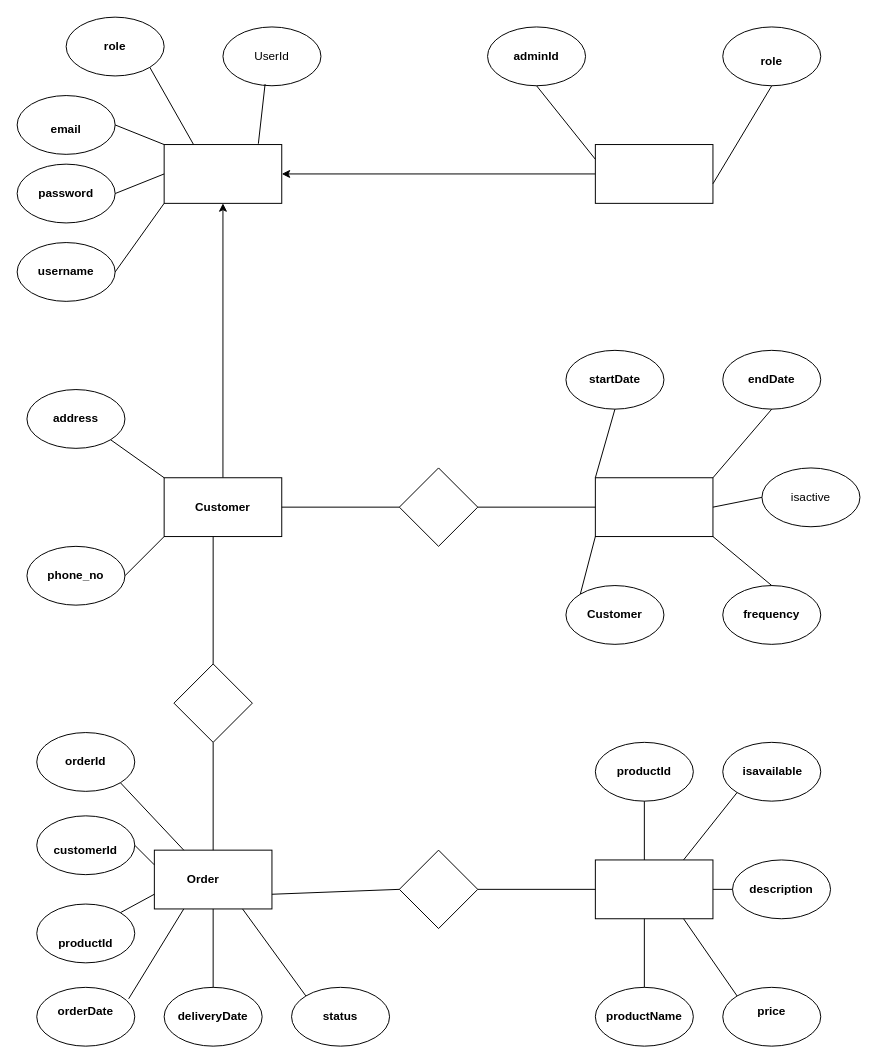
The diagram is 877 pixels wide and 1063 high, and some of its shapes have lost their labels. The shapes that lost their labels are listed below. From the top down, each one's centre as x and y in pixels, then its label:
At pixel 222 173: "User".
At pixel 653 173: "Admin".
At pixel 438 506: "Has-A".
At pixel 653 507: "Subscription".
At pixel 212 702: "Makes".
At pixel 438 889: "Contains".
At pixel 653 889: "Product".
